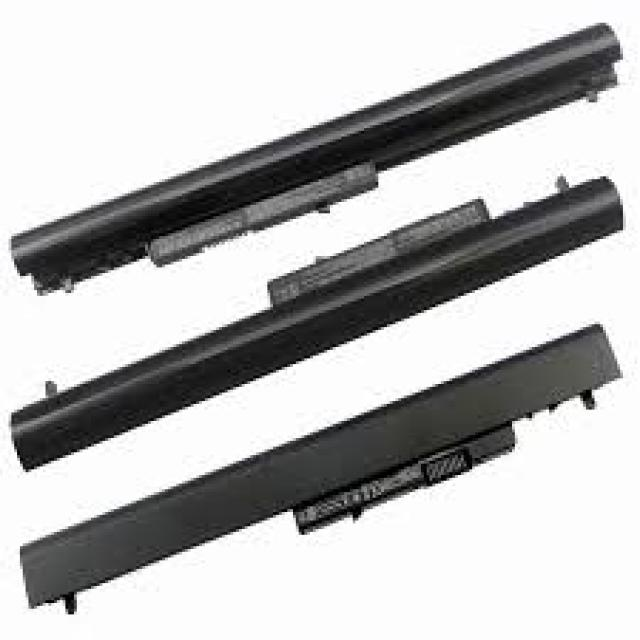non-organic waste: (5, 158, 629, 474), (16, 322, 621, 620), (2, 17, 622, 299)
